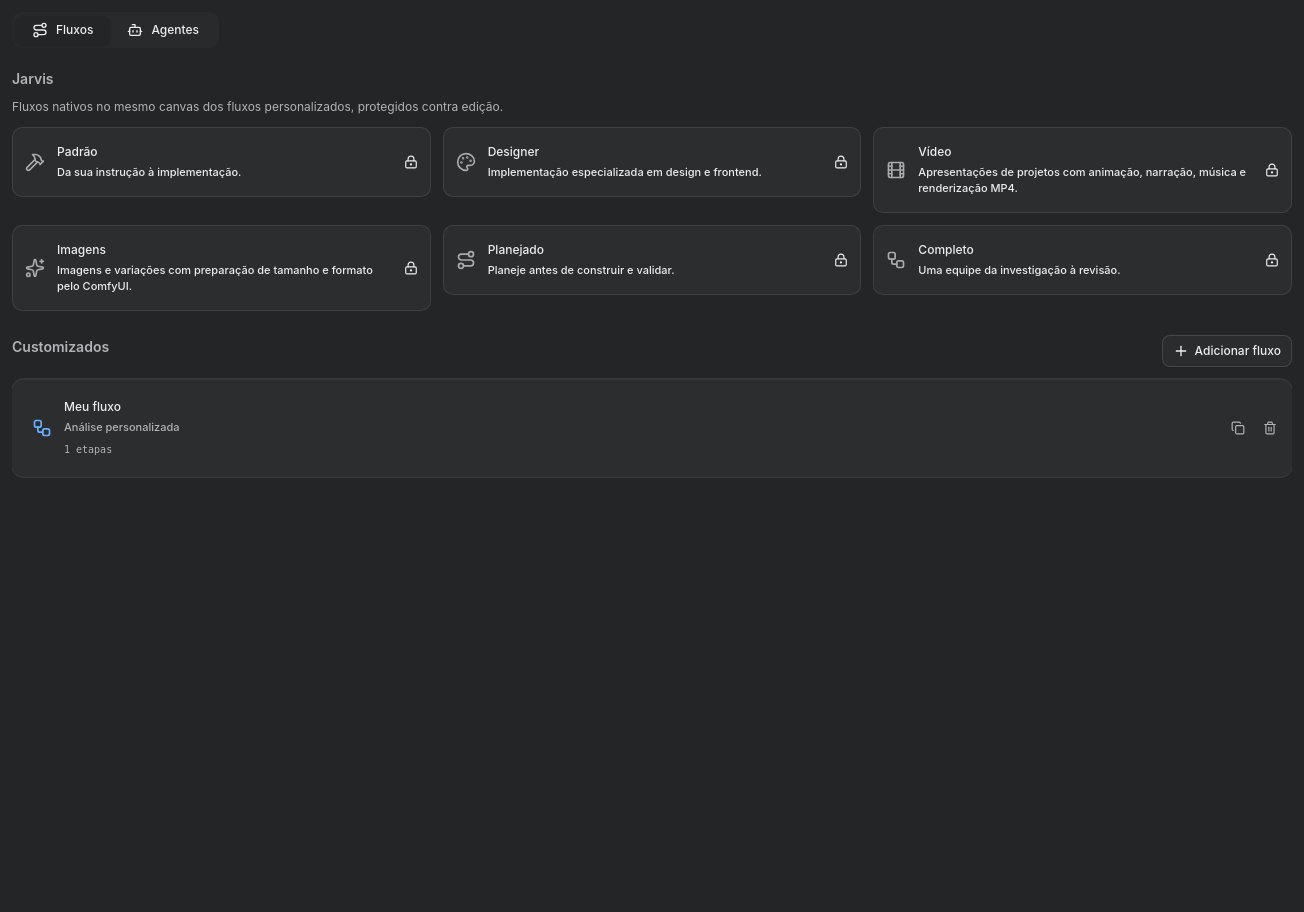
separates immutable built-in flow and agent cards from custom management
The width and height of the screenshot is (1304, 912).
Expected: the button with aria-label "Editar Meu fluxo" is shown, top-left (20, 387), bottom-right (1220, 469)
Click the tab "Agentes" at (163, 30), box top-left (110, 16), bottom-right (216, 44)
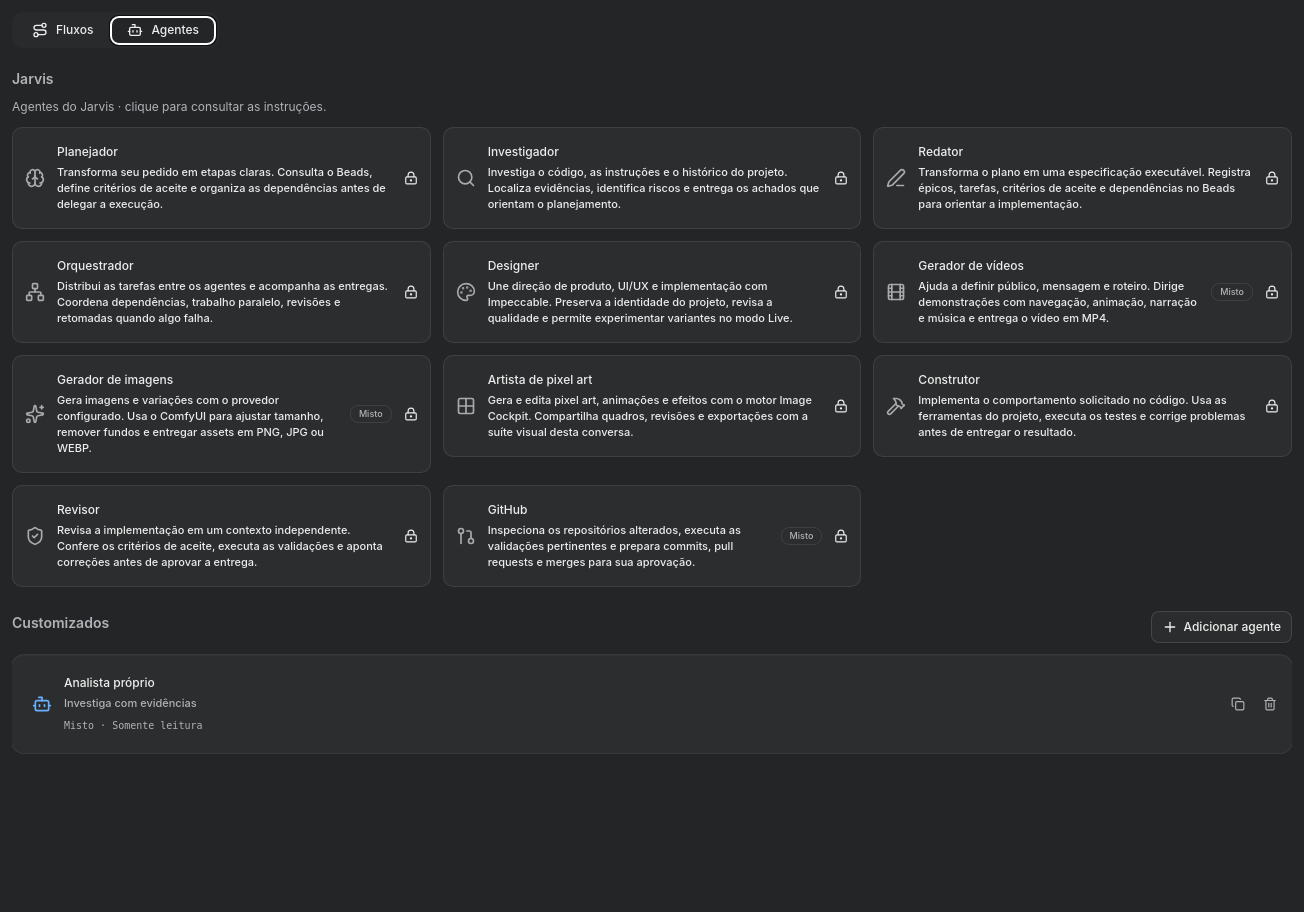
Result: the button with aria-label "Ver agente GitHub" shows "Misto" at top-left (443, 485), bottom-right (861, 587)
Result: the button with aria-label "Ver agente Gerador de vídeos" shows "Misto" at top-left (873, 241), bottom-right (1292, 343)
Result: the button with aria-label "Ver agente Gerador de vídeos" shows "Ajuda a definir público, mensagem e roteiro." at top-left (873, 241), bottom-right (1292, 343)
